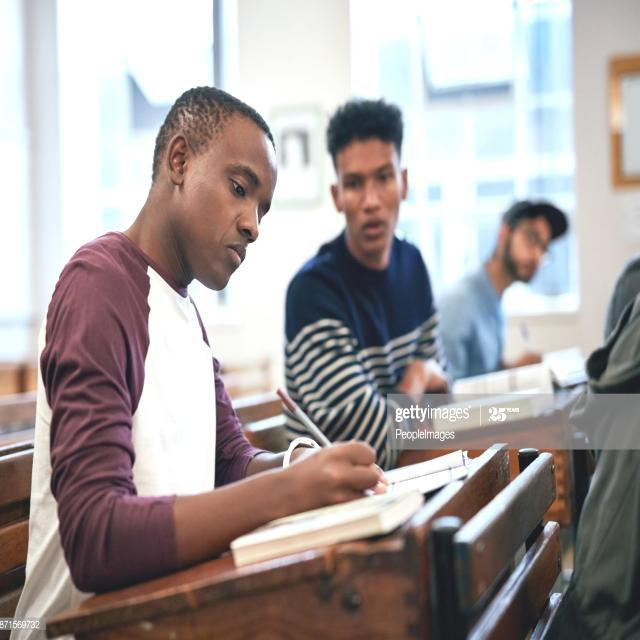cheating: (283, 90, 469, 473)
good: (27, 80, 326, 601)
